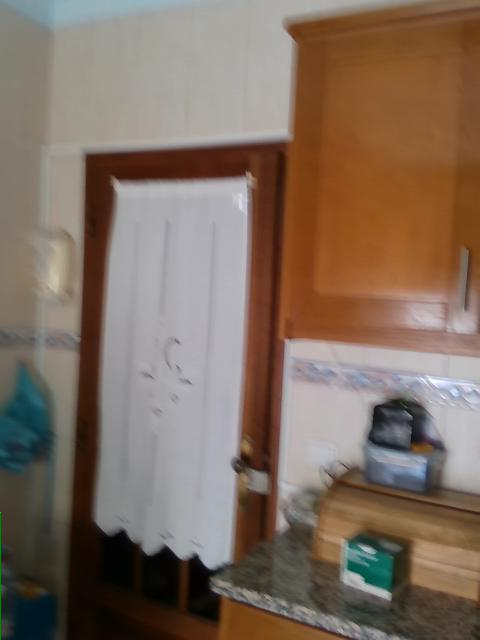door: (63, 140, 288, 639)
